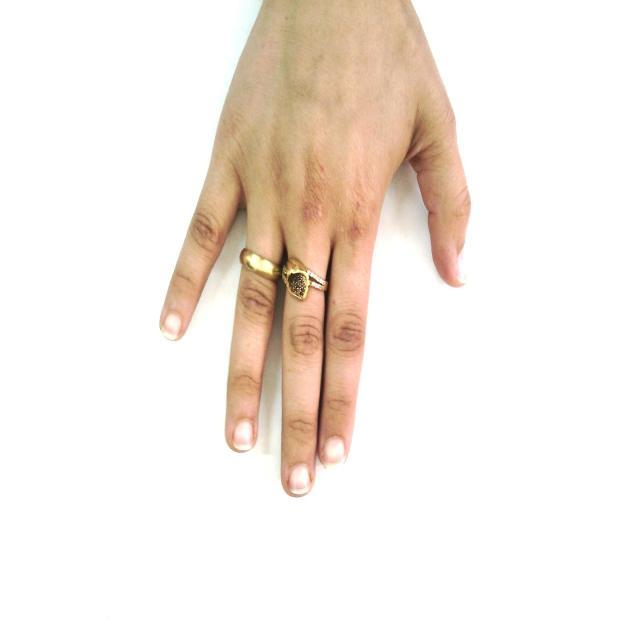Fingernail: (233, 420, 254, 451), (289, 464, 310, 495), (323, 438, 344, 466), (161, 313, 181, 340), (458, 251, 465, 281)
